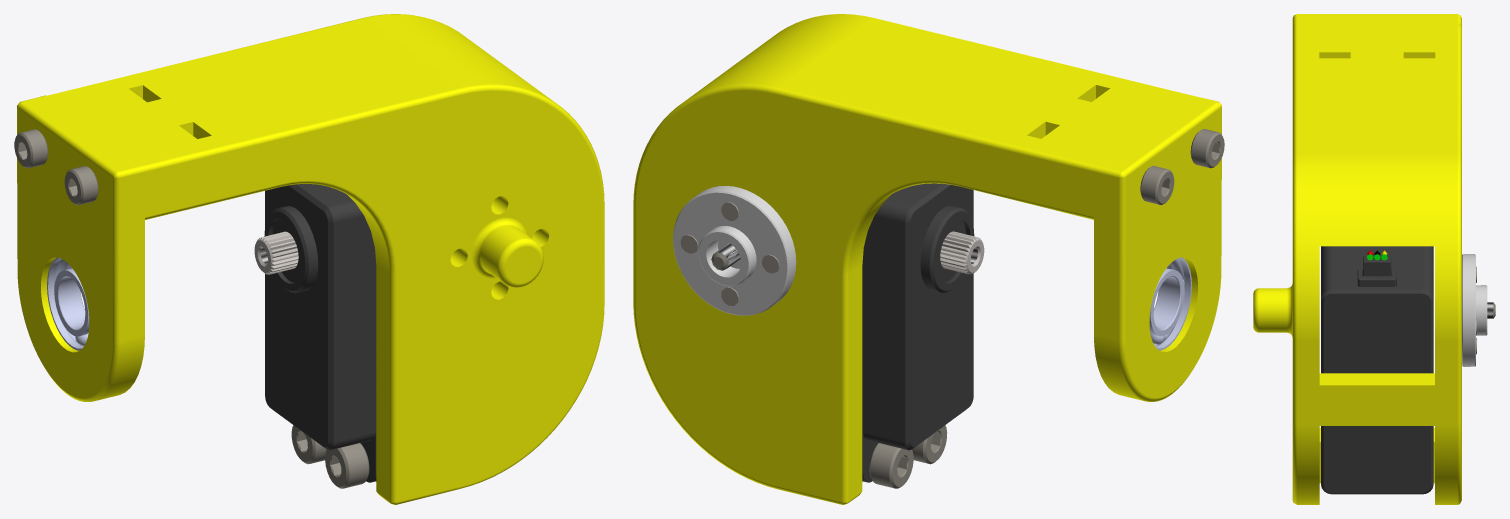
3 renders of one model, left to right at view 1: azimuth 30°, elevation 25°; view 2: azimuth 150°, elevation 25°; view 3: azimuth 270°, elevation 25°, orthographic. The views are drawn at different scales.
Visible parts, largest first — view 1: mesh 1 RL1 joint-1/RL - Servo Housing-1, mesh 6 RL1 joint-1/M4 Nut DIN 934-1, mesh 3 Chamfer1 face, mesh 14 Boss-Extrude7, mesh 7 RL1 joint-1/M4 x 12 DIN 912-2; view 2: mesh 1 RL1 joint-1/RL - Servo Housing-1, mesh 6 RL1 joint-1/M4 Nut DIN 934-1, mesh 12 Boss-Extrude5, mesh 3 Chamfer1 face, mesh 14 Boss-Extrude7, mesh 7 RL1 joint-1/M4 x 12 DIN 912-2, mesh 5 RL1 joint-1/M4 Nut DIN 934-2; view 3: mesh 1 RL1 joint-1/RL - Servo Housing-1, mesh 6 RL1 joint-1/M4 Nut DIN 934-1, mesh 12 Boss-Extrude5.
Boxes of the visible parts, x1,y1,x2,y2 form: mesh 1 RL1 joint-1/RL - Servo Housing-1: [17, 14, 604, 504]; mesh 6 RL1 joint-1/M4 Nut DIN 934-1: [264, 184, 376, 482]; mesh 3 Chamfer1 face: [14, 129, 369, 488]; mesh 14 Boss-Extrude7: [47, 257, 89, 350]; mesh 7 RL1 joint-1/M4 x 12 DIN 912-2: [254, 231, 298, 274]; mesh 1 RL1 joint-1/RL - Servo Housing-1: [633, 14, 1221, 504]; mesh 6 RL1 joint-1/M4 Nut DIN 934-1: [862, 183, 974, 482]; mesh 12 Boss-Extrude5: [673, 186, 796, 315]; mesh 3 Chamfer1 face: [711, 129, 1224, 488]; mesh 14 Boss-Extrude7: [1149, 257, 1191, 350]; mesh 7 RL1 joint-1/M4 x 12 DIN 912-2: [940, 231, 984, 274]; mesh 5 RL1 joint-1/M4 Nut DIN 934-2: [680, 202, 779, 305]; mesh 1 RL1 joint-1/RL - Servo Housing-1: [1253, 14, 1461, 504]; mesh 6 RL1 joint-1/M4 Nut DIN 934-1: [1321, 246, 1433, 494]; mesh 12 Boss-Extrude5: [1462, 254, 1487, 366].
Size of the model in its own units: 0.0877 by 0.066 by 0.043.
14 materials, 1 textured.
